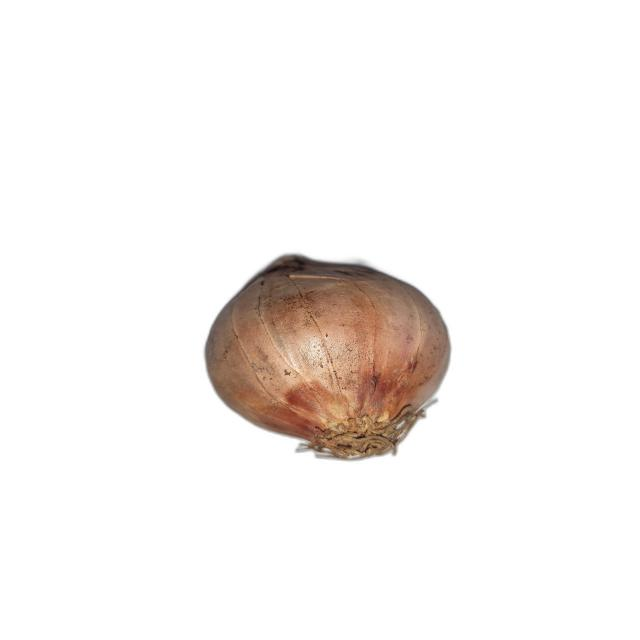onion: (204, 254, 452, 462)
